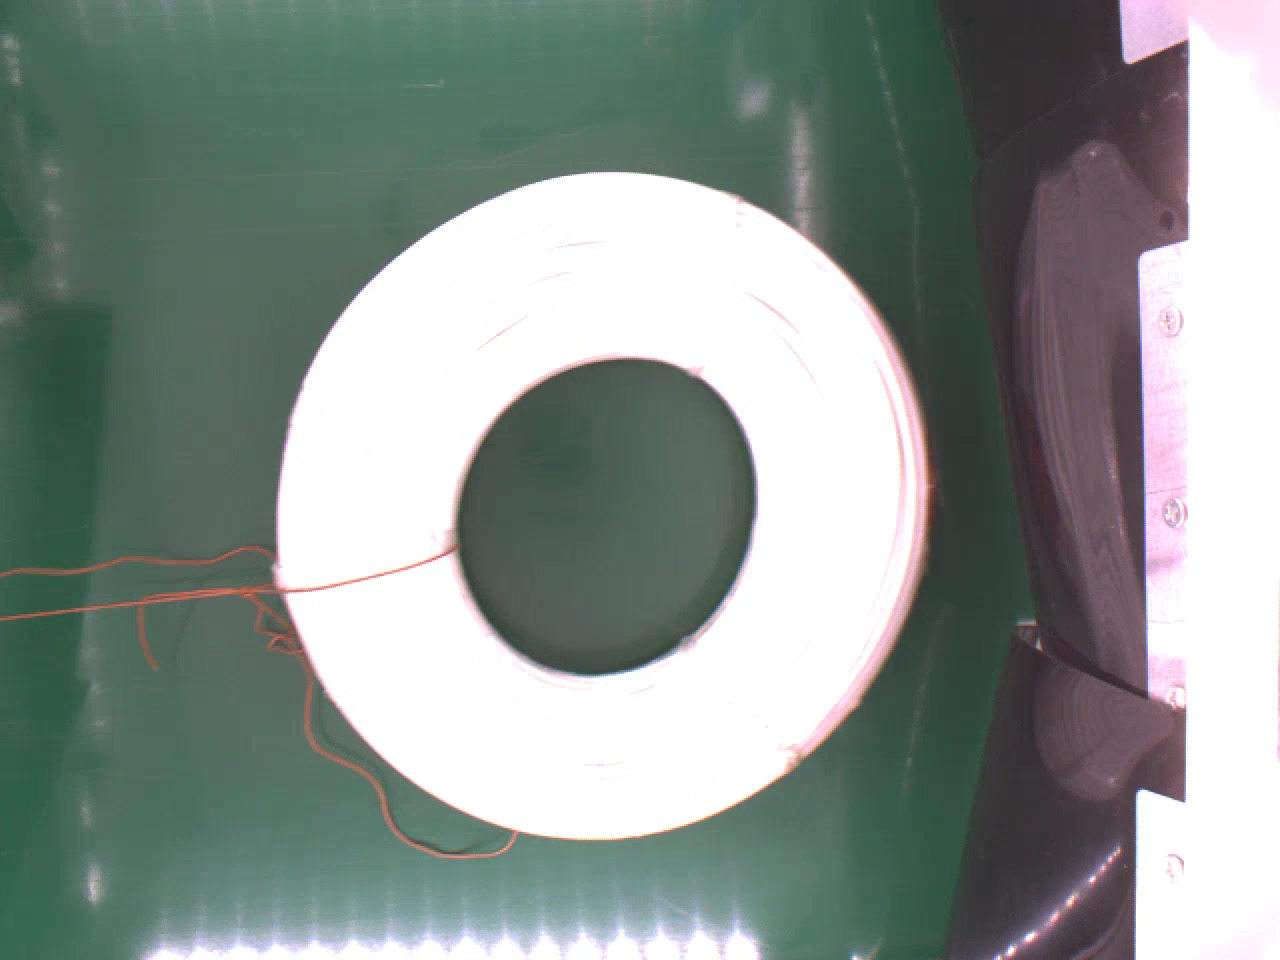white: (270, 158, 938, 839)
